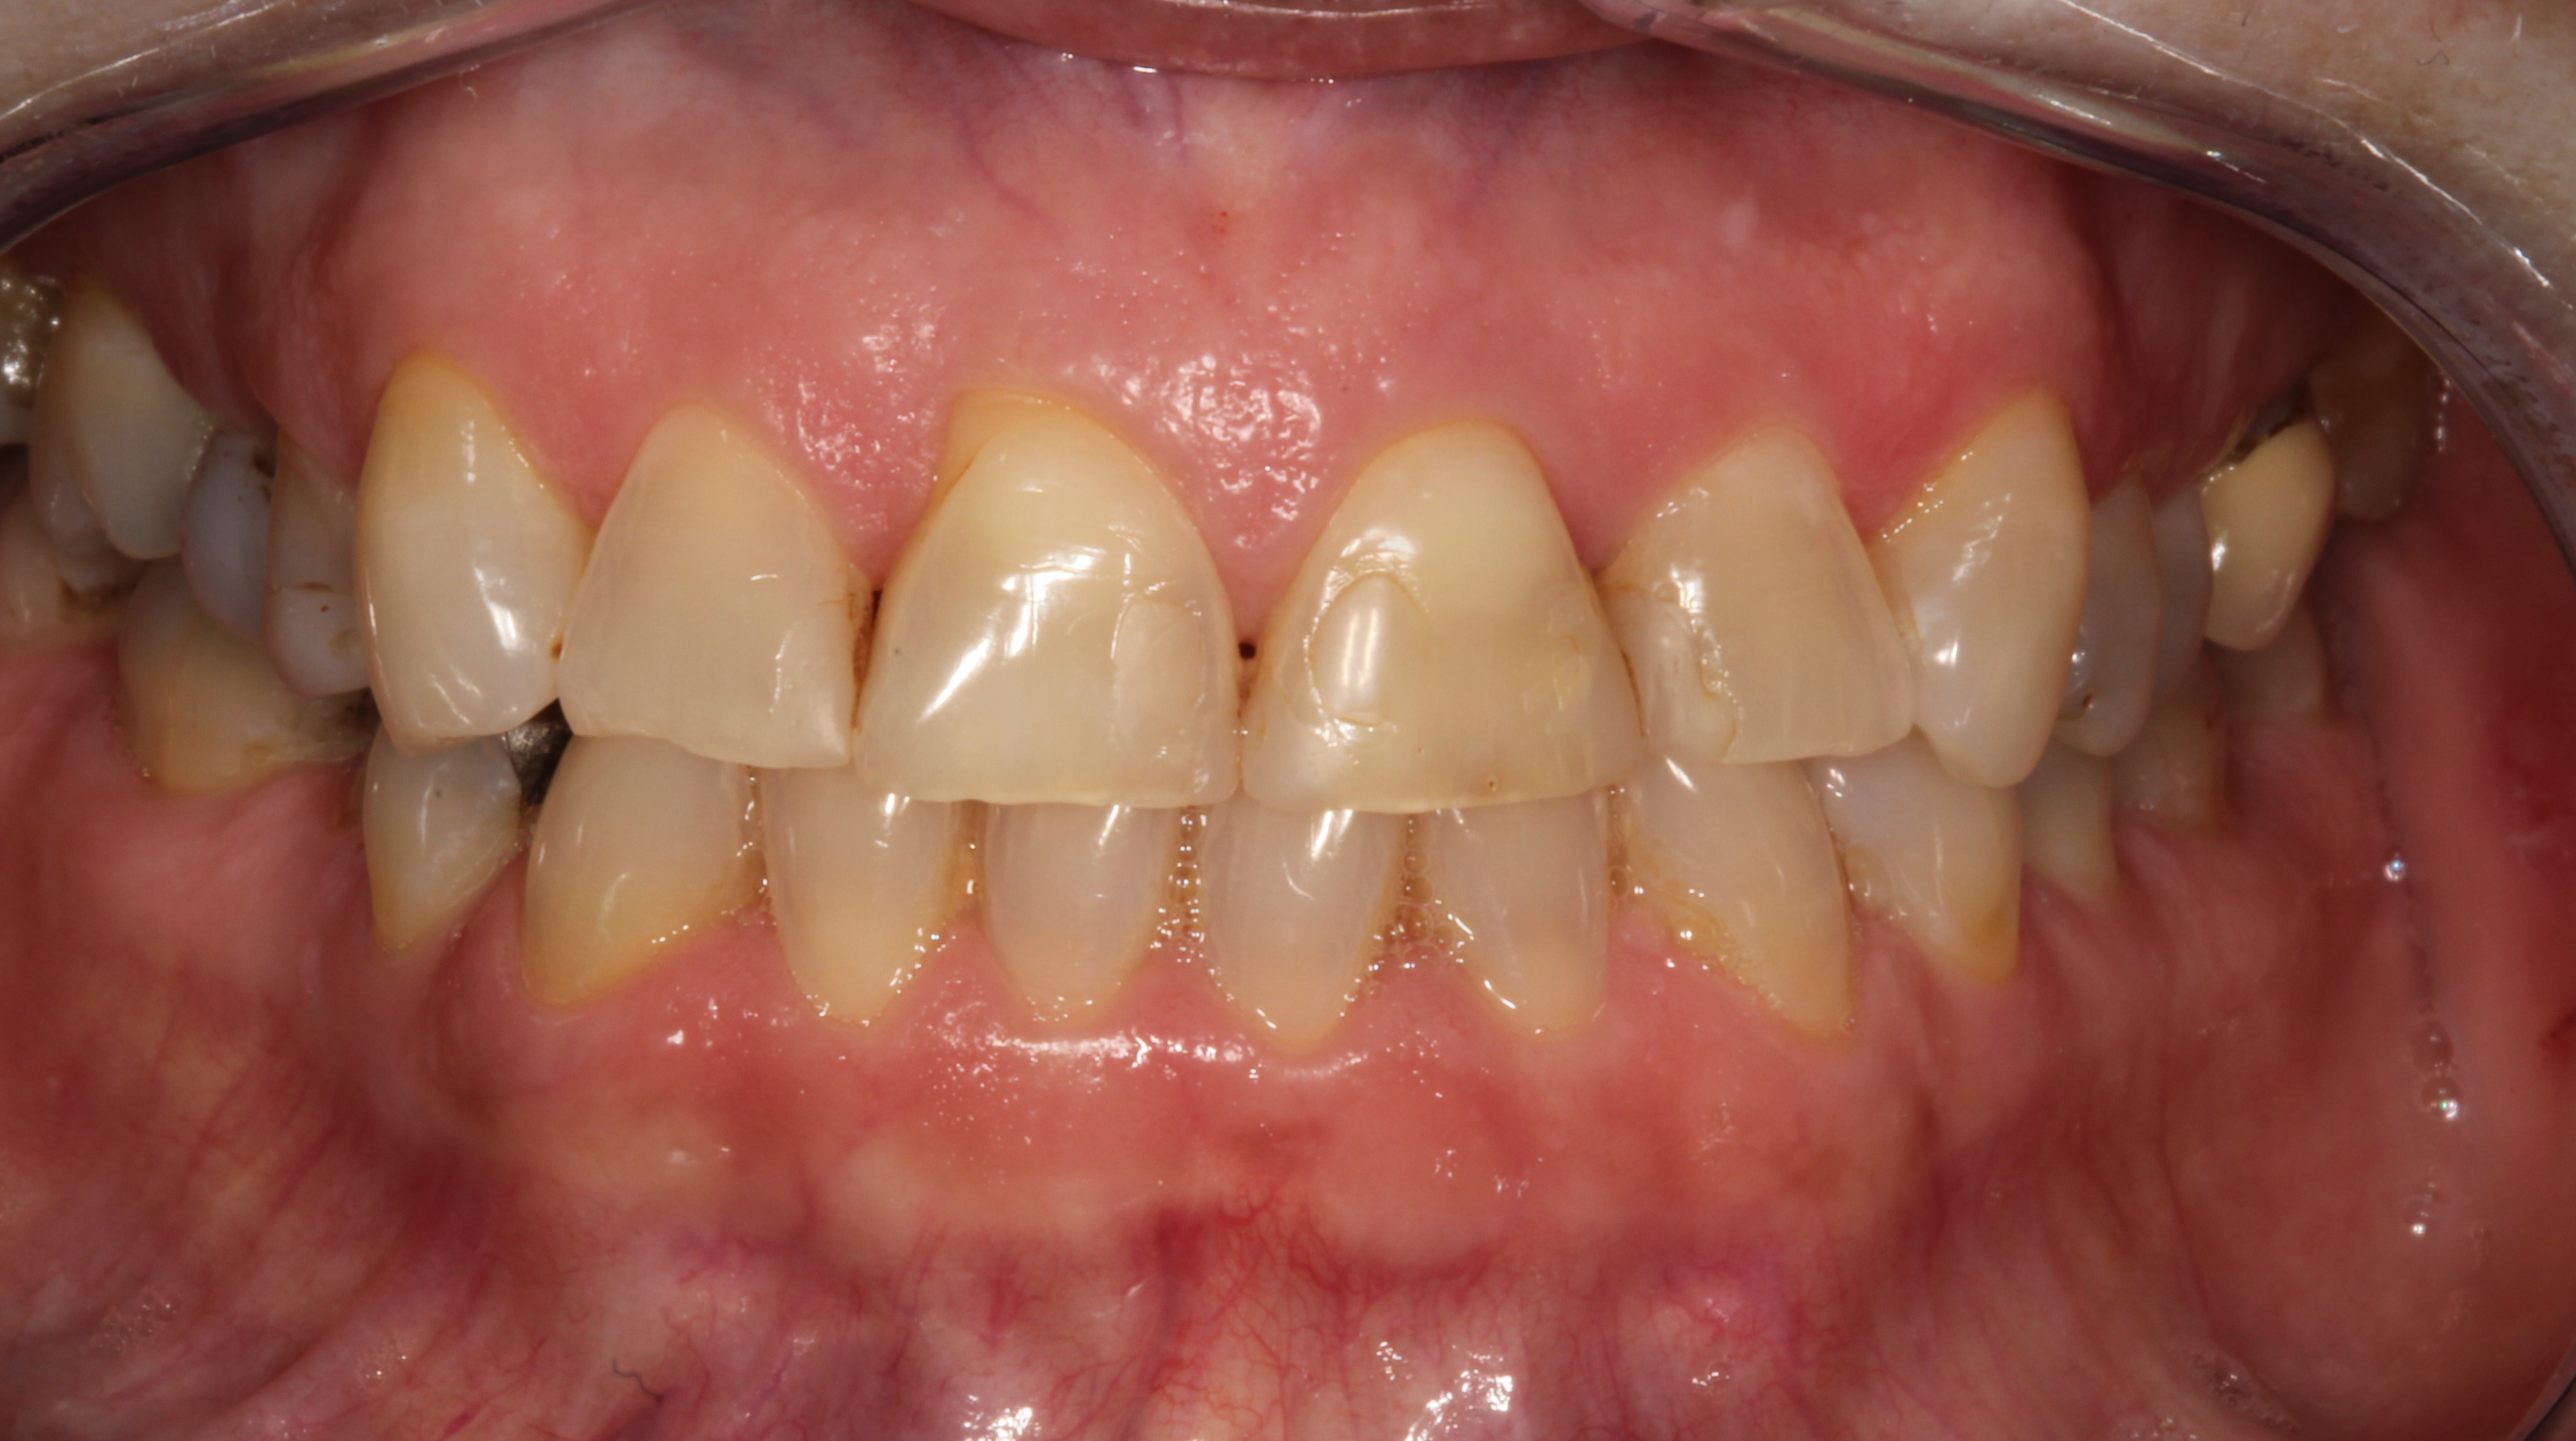LL1BC_healthy: (1849, 763, 2024, 979)
LL1M_decay: (2143, 713, 2233, 825)
LL2BC_healthy: (2024, 772, 2112, 899)
LLCI_healthy: (1196, 818, 1398, 1041)
LLC_healthy: (1637, 765, 1854, 1023)
LLLI_healthy: (1422, 807, 1615, 1027)
LR1BC_decay: (359, 735, 527, 954)
LR2BC_healthy: (78, 618, 283, 795)
LRCI_healthy: (987, 807, 1169, 1023)
LRC_healthy: (527, 745, 743, 1004)
LRLI_healthy: (761, 788, 961, 1009)
UL1BC_healthy: (2075, 482, 2160, 763)
UL1M_decay: (2212, 393, 2332, 653)
UL2BC_healthy: (2155, 474, 2212, 692)
UL2M_decay: (2344, 345, 2426, 524)
ULCI_healthy: (1269, 432, 1637, 807)
ULC_healthy: (1909, 405, 2088, 784)
ULLI_healthy: (1640, 434, 1911, 763)
UR1BC_decay: (262, 450, 361, 697)
UR1M_healthy: (34, 301, 182, 556)
UR2BC_decay: (179, 421, 258, 616)
URCI_healthy: (865, 407, 1244, 805)
URC_healthy: (359, 363, 564, 747)
URLI_healthy: (563, 409, 851, 765)
